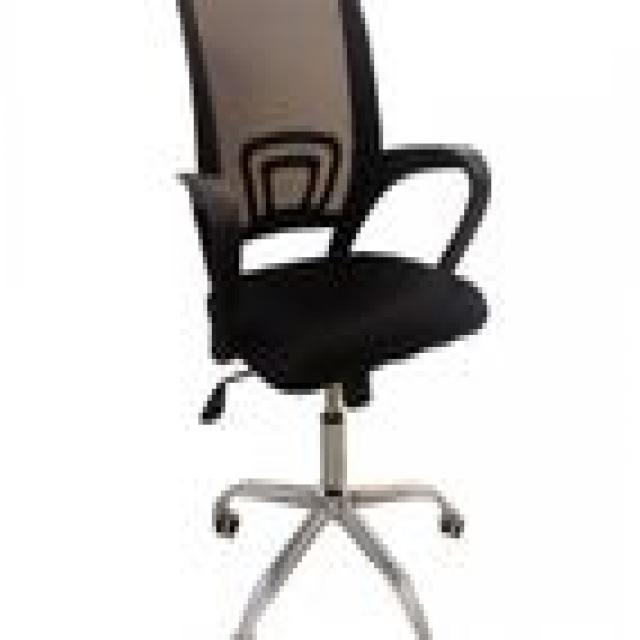others: (158, 6, 514, 640)
